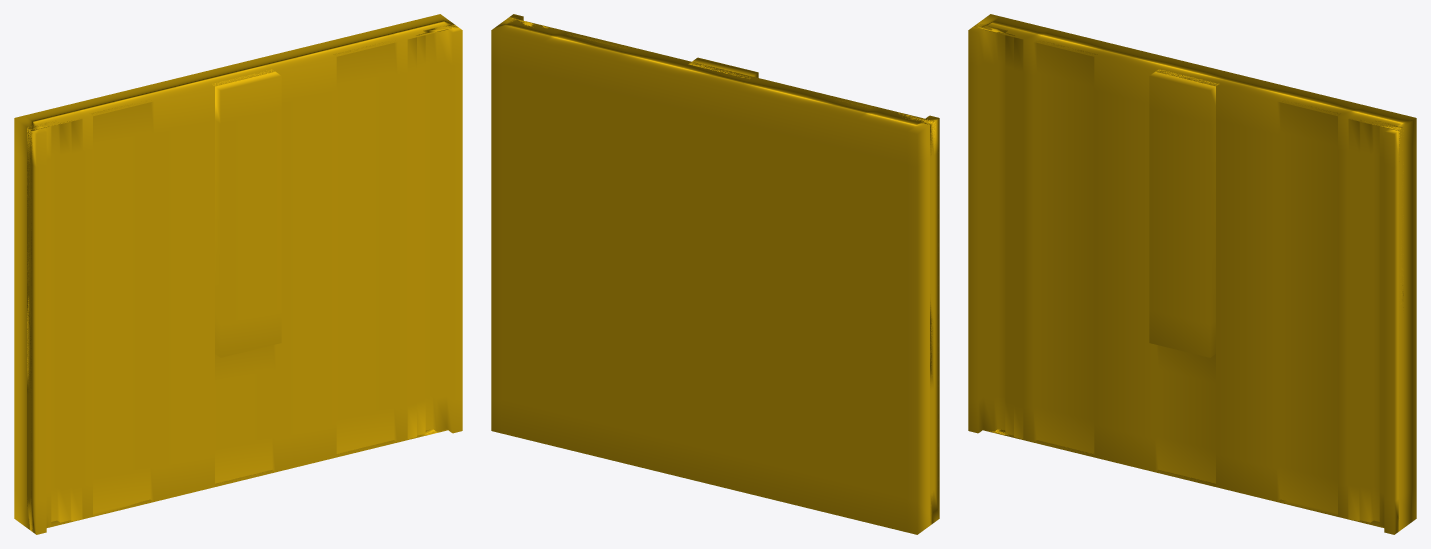
The model's file is puerta.fbx.
The picture shows the model from 3 angles, left to right: view 1: azimuth 30°, elevation 25°; view 2: azimuth 150°, elevation 25°; view 3: azimuth 330°, elevation 25°; orthographic projection.
Parts seen in each view (by area): view 1: Cube; view 2: Cube; view 3: Cube.
Part boxes in pixels (x1,y1,x2,y2): Cube: (14, 14, 462, 534); Cube: (491, 14, 939, 534); Cube: (968, 14, 1416, 534).
Bounding box in the file's own units: 7.81 × 0.7549 × 7.01.
